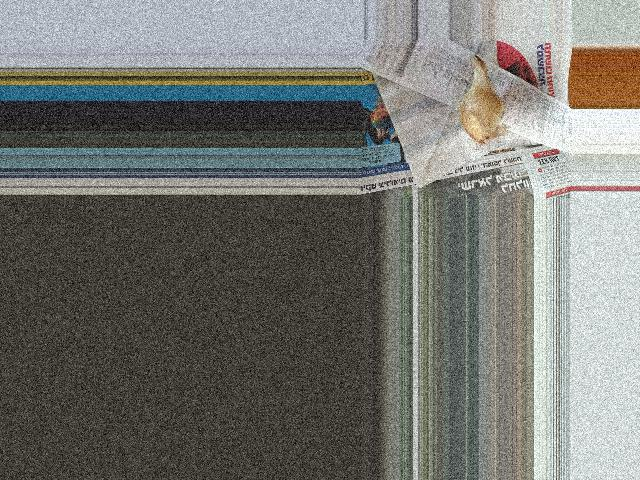onion: (458, 82, 503, 135)
